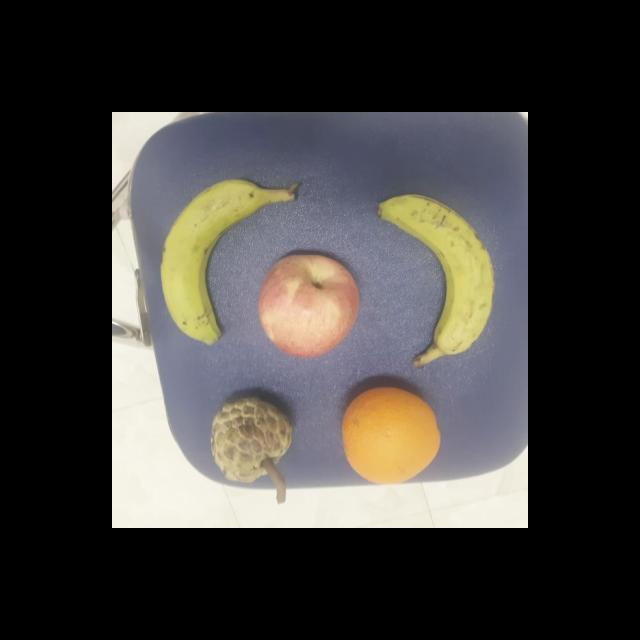Sakya fruit: (210, 395, 290, 485)
apple: (252, 252, 370, 362)
banana: (160, 180, 306, 350), (378, 192, 500, 366)
orange: (342, 384, 442, 486)
